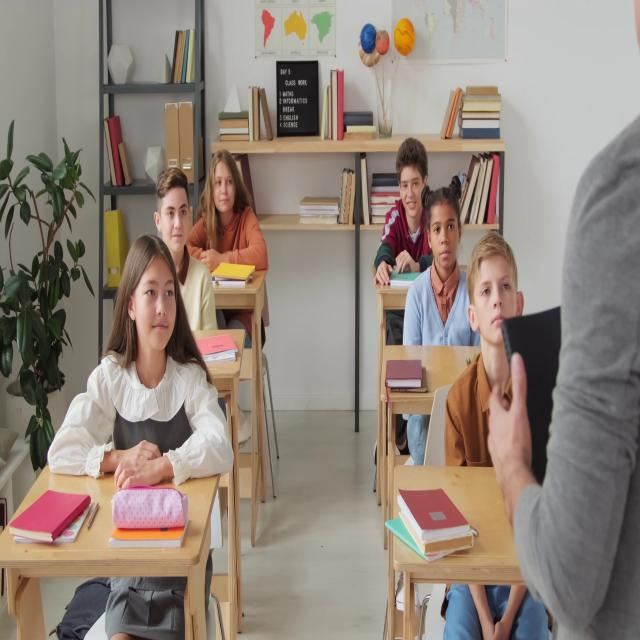listening: (47, 238, 239, 638), (192, 151, 272, 446), (439, 238, 535, 469), (403, 184, 476, 357), (155, 169, 219, 334), (371, 136, 430, 288)
